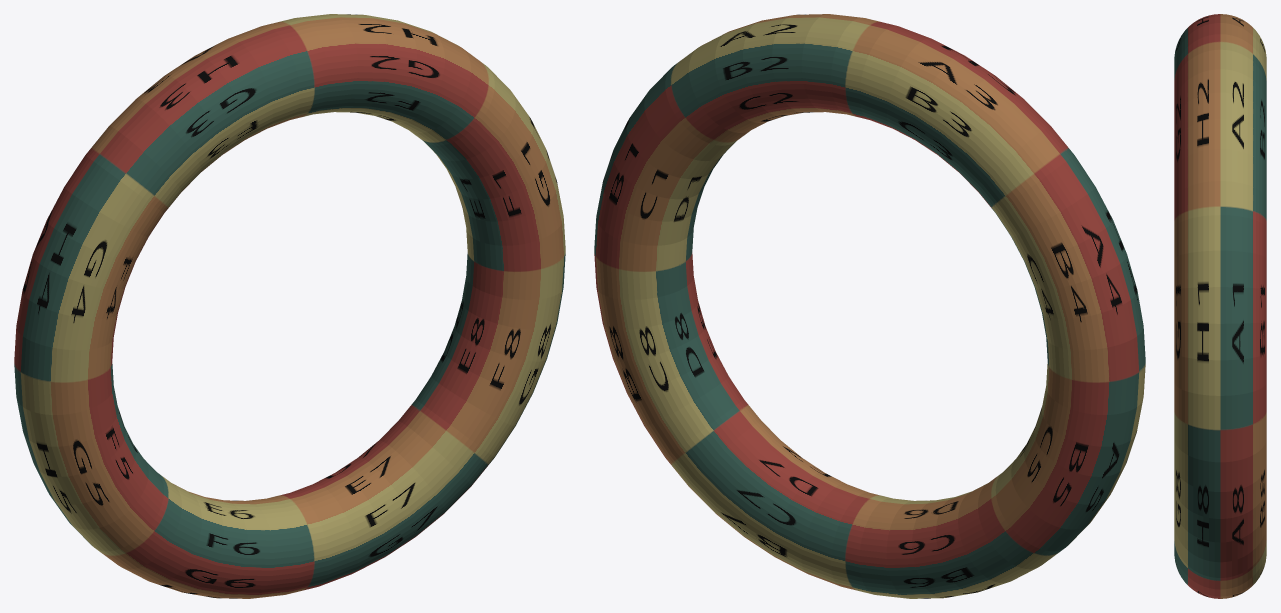
File: texture_torus_R1_r0.glb
The picture shows the model from 3 angles, left to right: view 1: azimuth 30°, elevation 25°; view 2: azimuth 150°, elevation 25°; view 3: azimuth 270°, elevation 25°; orthographic projection. The views are drawn at different scales.
Visible parts, largest first — view 1: world; view 2: world; view 3: world.
Boxes of the visible parts, x1,y1,x2,y2 form: world: (14,14,565,598); world: (594,14,1145,598); world: (1174,14,1266,598).
Size of the model in its own units: 12.67 by 12.64 by 2.
Materials: 1 (1 with a texture image).
